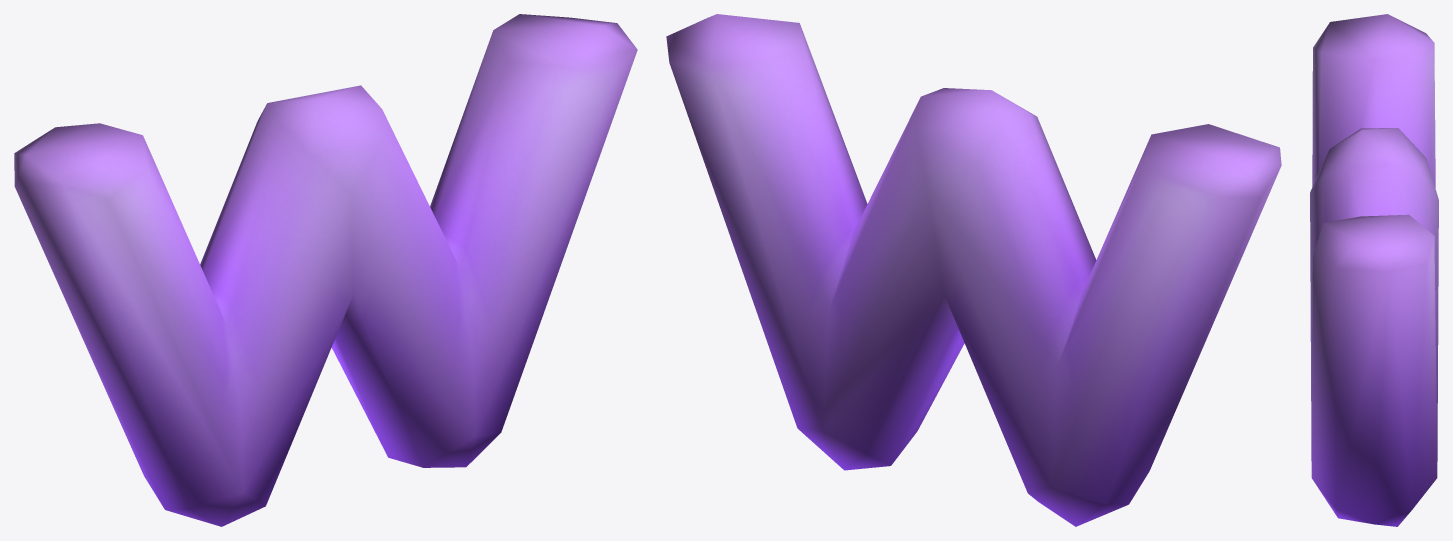
3 views of the same model, side by side, from view 1: azimuth 30°, elevation 25°; view 2: azimuth 150°, elevation 25°; view 3: azimuth 270°, elevation 25° (orthographic). The views are drawn at different scales.
Visible parts, largest first — view 1: Processed_Mesh0_Geometry; view 2: Processed_Mesh0_Geometry; view 3: Processed_Mesh0_Geometry.
Boxes of the visible parts, x1,y1,x2,y2 form: Processed_Mesh0_Geometry: [14, 14, 637, 526]; Processed_Mesh0_Geometry: [666, 14, 1281, 526]; Processed_Mesh0_Geometry: [1310, 14, 1438, 526].
Size of what is drawn, in the model's own units: 0.0931 by 0.0603 by 0.0202.
Materials: 1 (1 with a texture image).
